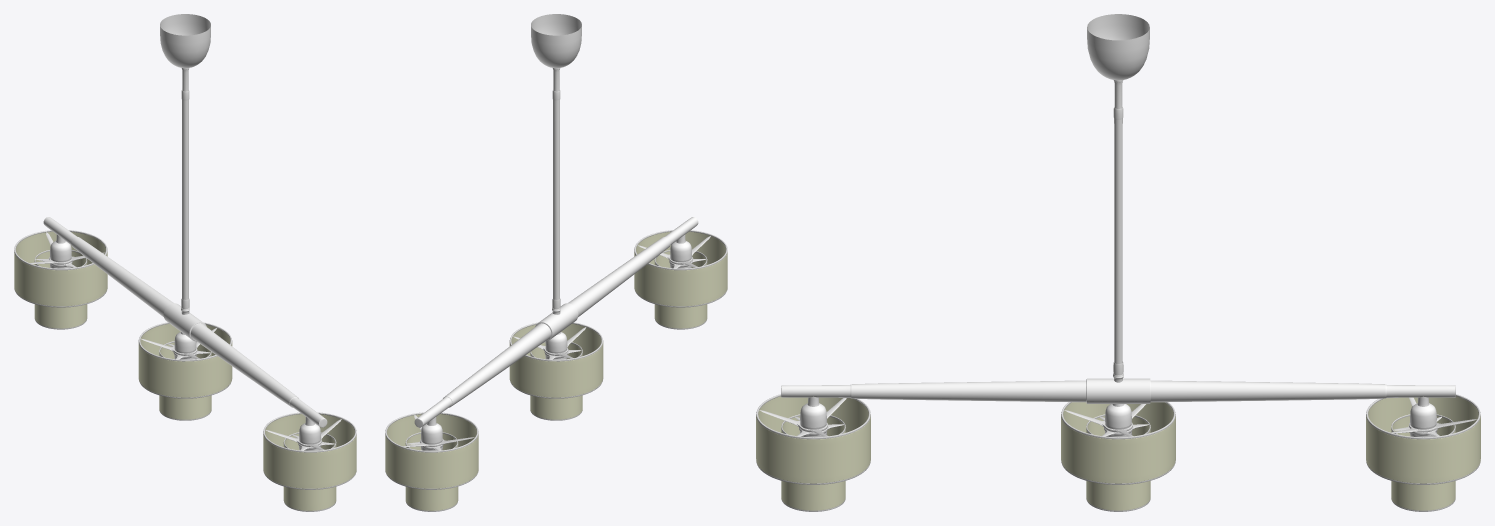
File: sh_scopia_saloon_lamp.glb
The picture shows the model from 3 angles, left to right: view 1: azimuth 30°, elevation 25°; view 2: azimuth 150°, elevation 25°; view 3: azimuth 270°, elevation 25°; orthographic projection. The views are drawn at different scales.
Size of the model in its own units: 0.132 by 0.6 by 0.836.
